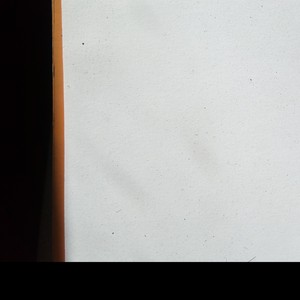base: (64, 1, 299, 261)
